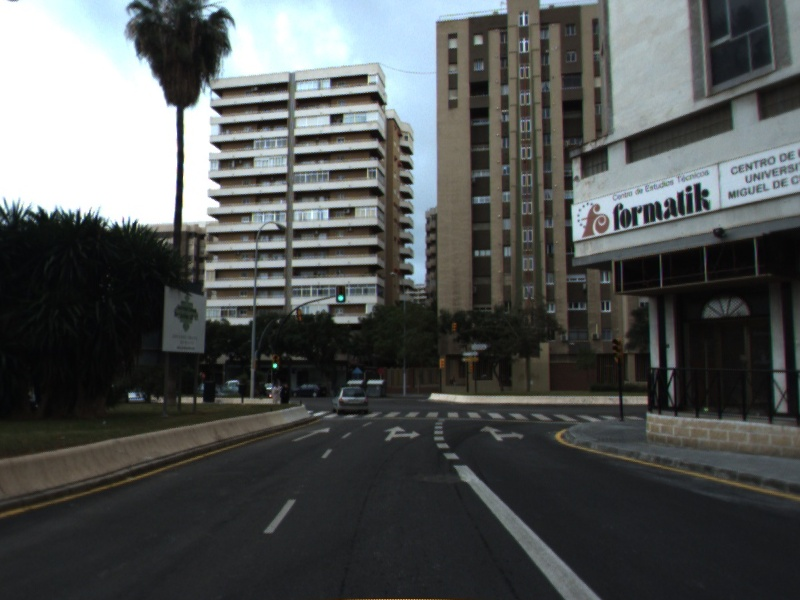STRAIGHT: (289, 425, 332, 443)
STRAIGHT_RIGHT: (478, 423, 526, 443), (381, 424, 423, 443)
